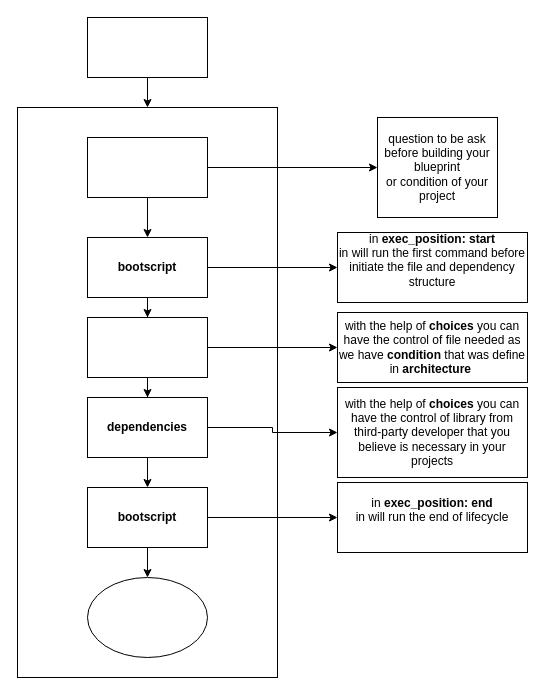
Some shapes in this 545 by 695 pixel diagram are drawn without their labels. Here are the shapes that lost their labels. From the top down, the centre of each, then its label:
At point 147,47: "architecture.yaml".
At point 147,167: "choices".
At point 147,347: "files".
At point 147,617: "end".
